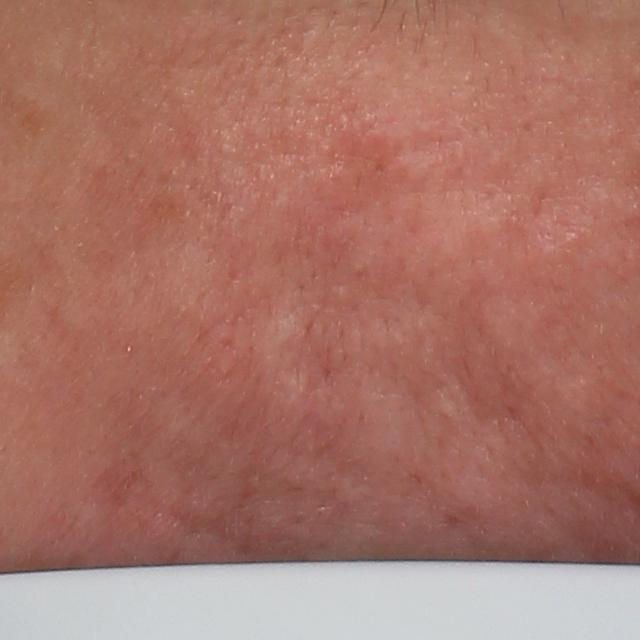hypertrophic_scar: (240, 299, 311, 406)
